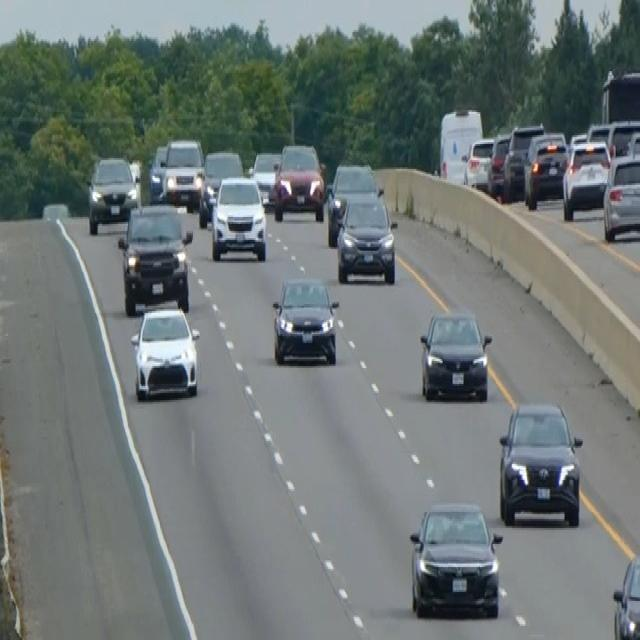car: (408, 498, 503, 618), (497, 398, 583, 528), (418, 306, 492, 402), (129, 300, 200, 400), (271, 272, 339, 366), (335, 192, 397, 284), (209, 172, 267, 262), (326, 160, 381, 245), (272, 140, 325, 222), (86, 153, 138, 233), (561, 137, 611, 220), (197, 147, 243, 225), (523, 130, 568, 208), (602, 151, 639, 242), (503, 121, 544, 199), (161, 137, 204, 206), (611, 551, 639, 638), (250, 150, 281, 207), (462, 135, 494, 190), (487, 130, 511, 197), (147, 142, 167, 203)
jeep: (117, 201, 193, 315)
minibus: (437, 105, 484, 185)
